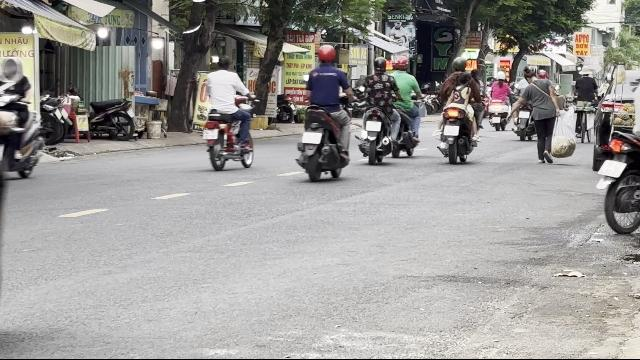helmet: (316, 44, 336, 64), (450, 56, 466, 72), (392, 55, 408, 70), (372, 57, 386, 73)
licenseplate: (597, 160, 625, 176), (302, 132, 322, 144), (444, 124, 458, 136), (202, 129, 218, 139), (366, 121, 382, 131)
motorcyclist: (295, 43, 353, 181), (198, 53, 256, 171), (433, 56, 482, 164), (383, 54, 421, 158), (358, 56, 394, 165)
nohelmet: (216, 54, 232, 70)
